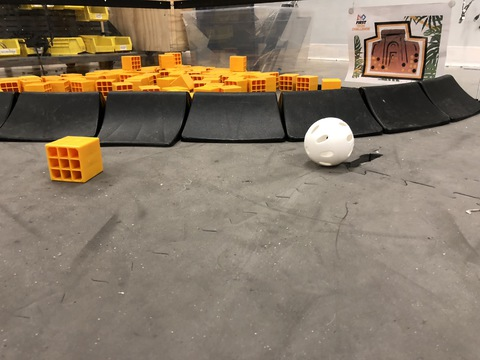ball: (286, 111, 370, 186)
block: (31, 131, 114, 191)
